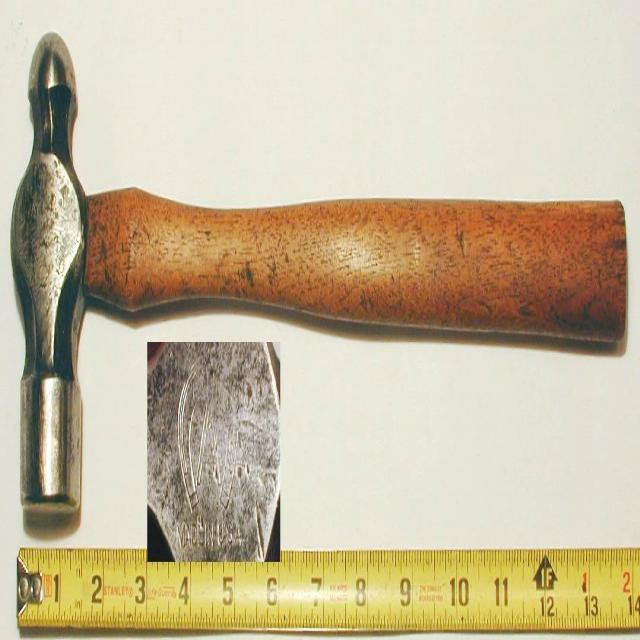hammer: (0, 6, 636, 532)
